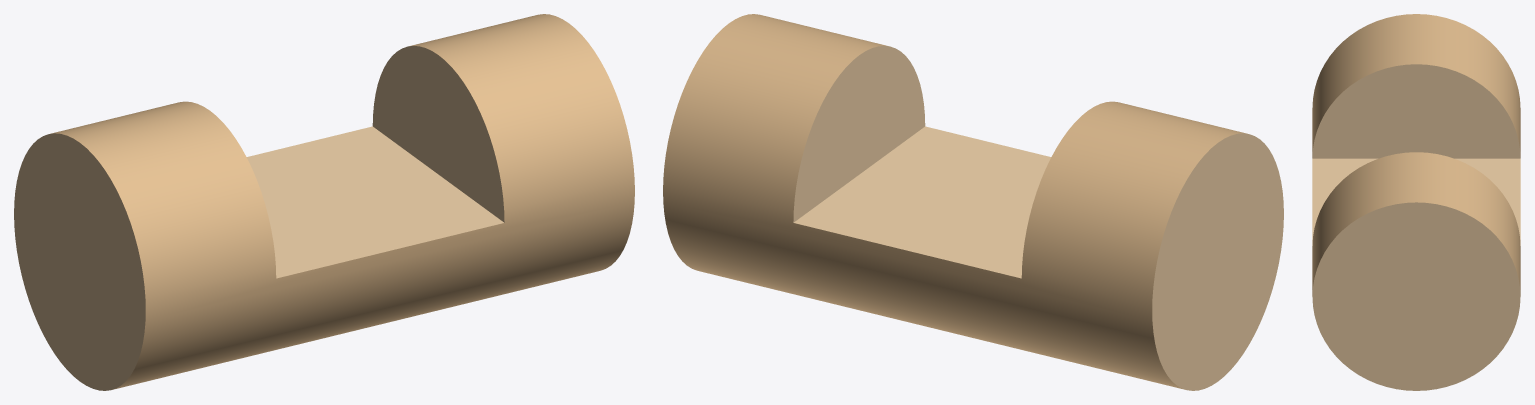
Rendered from SM_RawLog_75_CrossLap_Lower.fbx.
3 views of the same model, side by side, from view 1: azimuth 30°, elevation 25°; view 2: azimuth 150°, elevation 25°; view 3: azimuth 270°, elevation 25° (orthographic). The views are drawn at different scales.
Parts seen in each view (by area): view 1: RawLog_75_CrossLap_Lower; view 2: RawLog_75_CrossLap_Lower; view 3: RawLog_75_CrossLap_Lower.
Boxes of the visible parts, x1,y1,x2,y2 form: RawLog_75_CrossLap_Lower: (14, 14, 634, 390); RawLog_75_CrossLap_Lower: (663, 14, 1283, 390); RawLog_75_CrossLap_Lower: (1312, 14, 1520, 390).
Size of what is drawn, in the model's own units: 0.75 by 0.35 by 0.35.
